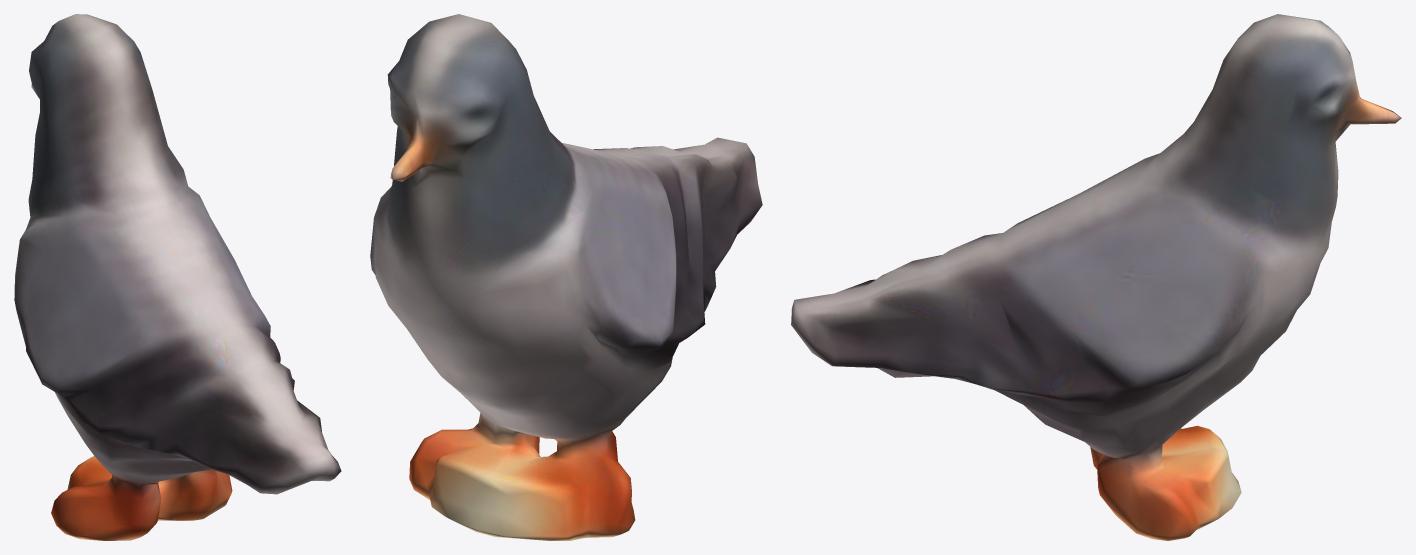
Rendered from pigeon.glb.
3 renders of one model, left to right at view 1: azimuth 30°, elevation 25°; view 2: azimuth 150°, elevation 25°; view 3: azimuth 270°, elevation 25°, orthographic. The views are drawn at different scales.
Parts seen in each view (by area): view 1: tripo_node_01a21cac-806b-7151-b525-51725a89b8a7; view 2: tripo_node_01a21cac-806b-7151-b525-51725a89b8a7; view 3: tripo_node_01a21cac-806b-7151-b525-51725a89b8a7.
Part boxes in pixels (<box>): tripo_node_01a21cac-806b-7151-b525-51725a89b8a7: <box>14,14,341,540</box>; tripo_node_01a21cac-806b-7151-b525-51725a89b8a7: <box>370,14,762,540</box>; tripo_node_01a21cac-806b-7151-b525-51725a89b8a7: <box>791,14,1401,540</box>.
Size of the model in its own units: 0.1308 by 0.2602 by 0.3.
Materials: 1 (1 with a texture image).
